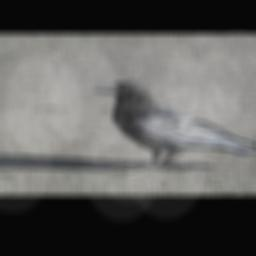Crow: (86, 78, 256, 180)
